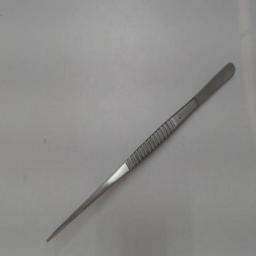DeBakey Dissector: (42, 44, 234, 254)
